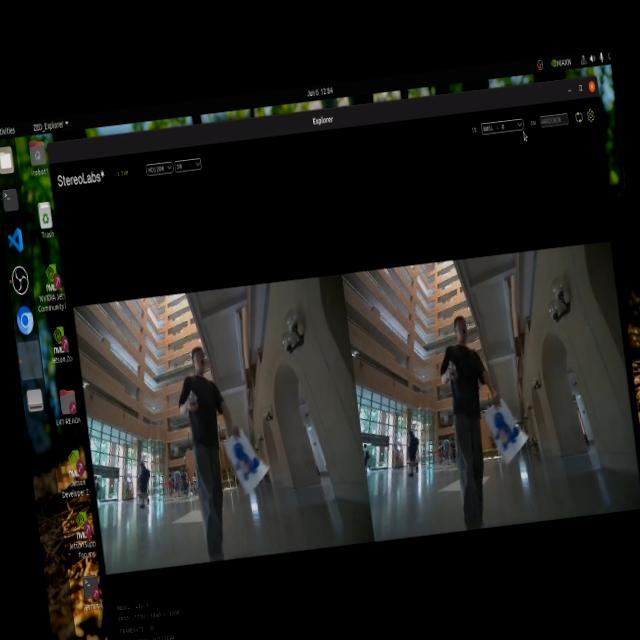blue: (234, 440, 258, 479), (494, 411, 520, 446)
